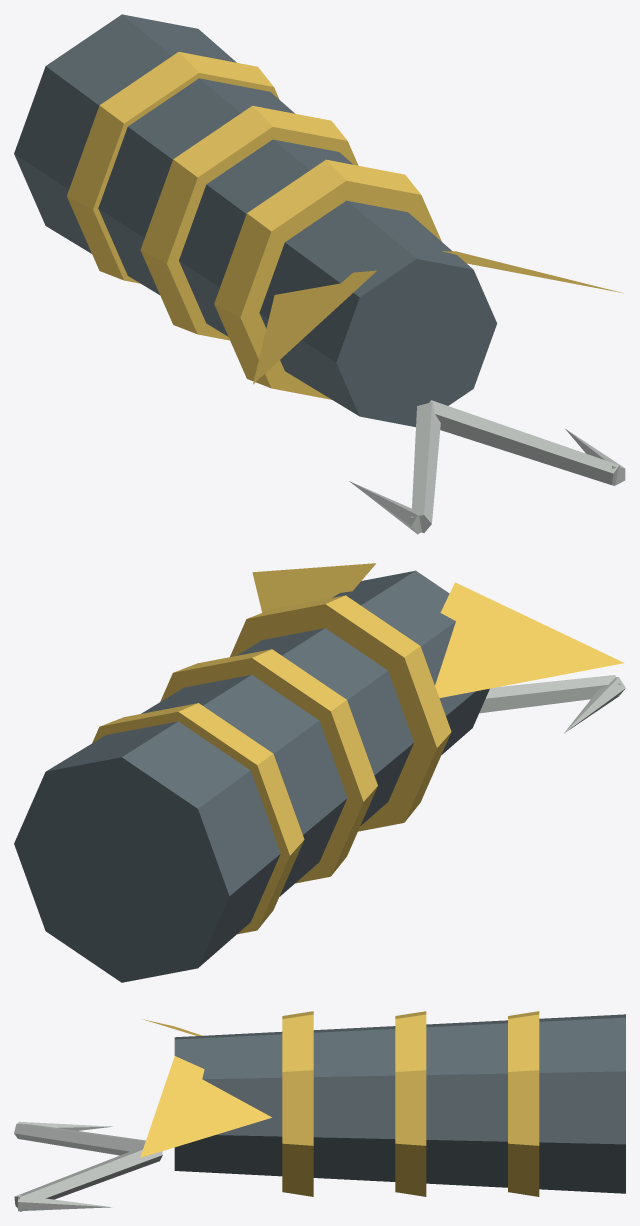
Rendered from BeginnerBossLure.fbx.
The picture shows the model from 3 angles, top to bottom: view 1: azimuth 30°, elevation 25°; view 2: azimuth 150°, elevation 25°; view 3: azimuth 270°, elevation 25°; orthographic projection. The views are drawn at different scales.
Parts seen in each view (by area): view 1: LureBody, Ring2, Ring1, Ring0, Hook-1, Vane1, Hook1, Vane-1, HookTip1; view 2: LureBody, Ring2, Vane1, Ring1, Ring0, Vane-1, Hook1, HookTip1; view 3: LureBody, Vane-1, Ring0, Ring1, Ring2, Hook-1, Hook1, HookTip-1, HookTip1.
Boxes of the visible parts, left/top/right/bottom form: LureBody: left=14, top=14, right=497, bottom=427; Ring2: left=214, top=159, right=441, bottom=399; Ring1: left=140, top=105, right=358, bottom=340; Ring0: left=67, top=52, right=279, bottom=283; Hook-1: left=429, top=400, right=619, bottom=485; Vane1: left=253, top=270, right=376, bottom=384; Hook1: left=411, top=402, right=440, bottom=532; Vane-1: left=442, top=251, right=623, bottom=293; HookTip1: left=349, top=481, right=421, bottom=534; LureBody: left=14, top=570, right=489, bottom=982; Ring2: left=230, top=595, right=451, bottom=831; Vane1: left=435, top=582, right=623, bottom=697; Ring1: left=160, top=649, right=377, bottom=883; Ring0: left=92, top=703, right=304, bottom=934; Vane-1: left=252, top=563, right=375, bottom=612; Hook1: left=479, top=675, right=620, bottom=713; HookTip1: left=564, top=677, right=625, bottom=733; LureBody: left=174, top=1014, right=625, bottom=1193; Vane-1: left=140, top=1056, right=271, bottom=1157; Ring0: left=508, top=1011, right=539, bottom=1196; Ring1: left=395, top=1011, right=426, bottom=1196; Ring2: left=282, top=1011, right=313, bottom=1196; Hook-1: left=14, top=1146, right=162, bottom=1211; Hook1: left=14, top=1123, right=162, bottom=1155; HookTip-1: left=18, top=1195, right=112, bottom=1211; HookTip1: left=18, top=1121, right=112, bottom=1137.
Bounding box in the file's own units: 0.19 × 0.114 × 0.3526.
